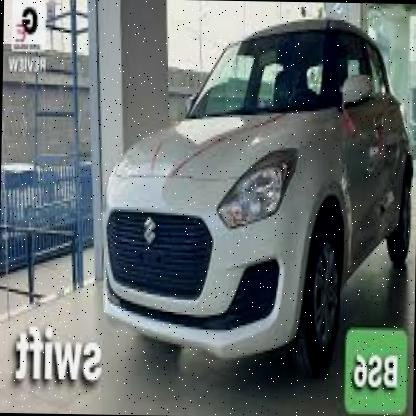car: (96, 7, 416, 366)
